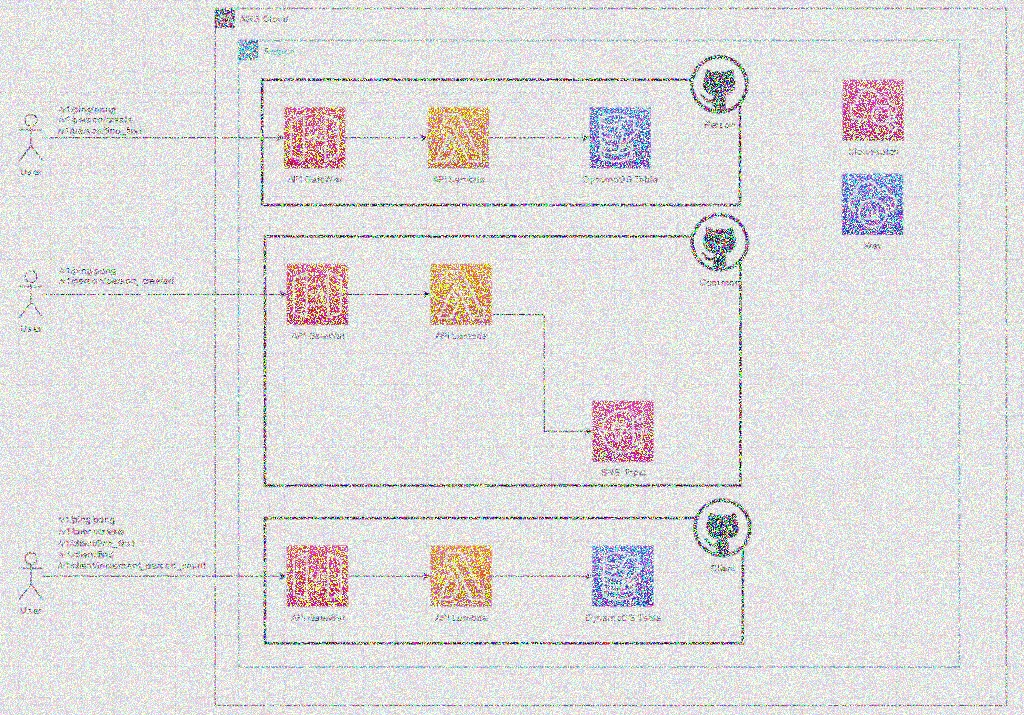API-Gateway: (280, 105, 347, 172), (284, 542, 350, 610), (285, 260, 349, 328)
Cloud Watch: (842, 78, 903, 142)
Dynamo DB: (588, 103, 653, 170), (592, 542, 655, 610)
Github: (685, 45, 753, 119), (685, 208, 754, 277), (689, 497, 758, 560)
Lambda: (425, 102, 492, 172), (429, 258, 494, 326), (428, 543, 493, 610)
Region: (238, 39, 258, 61)
SNS: (590, 398, 656, 463)
X-Ray: (842, 171, 905, 237)
aws: (214, 6, 236, 30)
